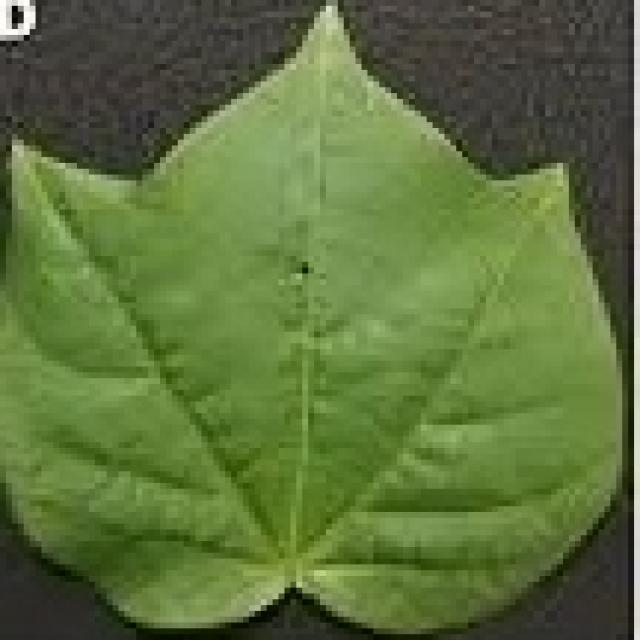Healthy Leaf: (25, 38, 588, 530)
